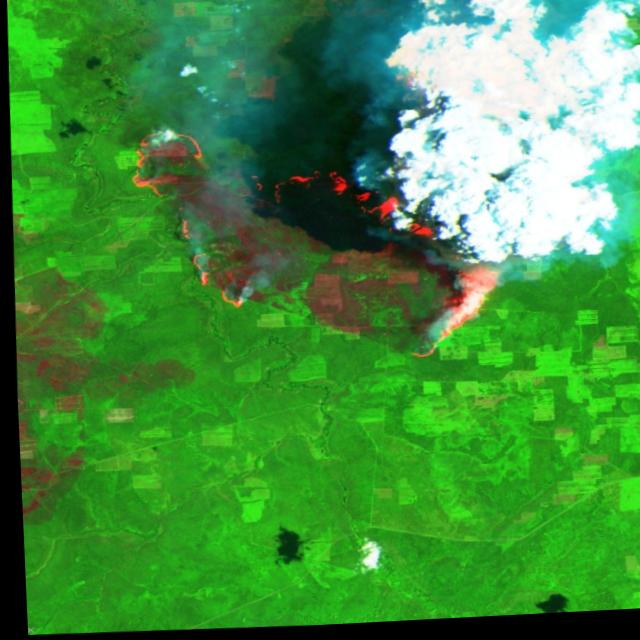fire: (121, 117, 505, 376)
